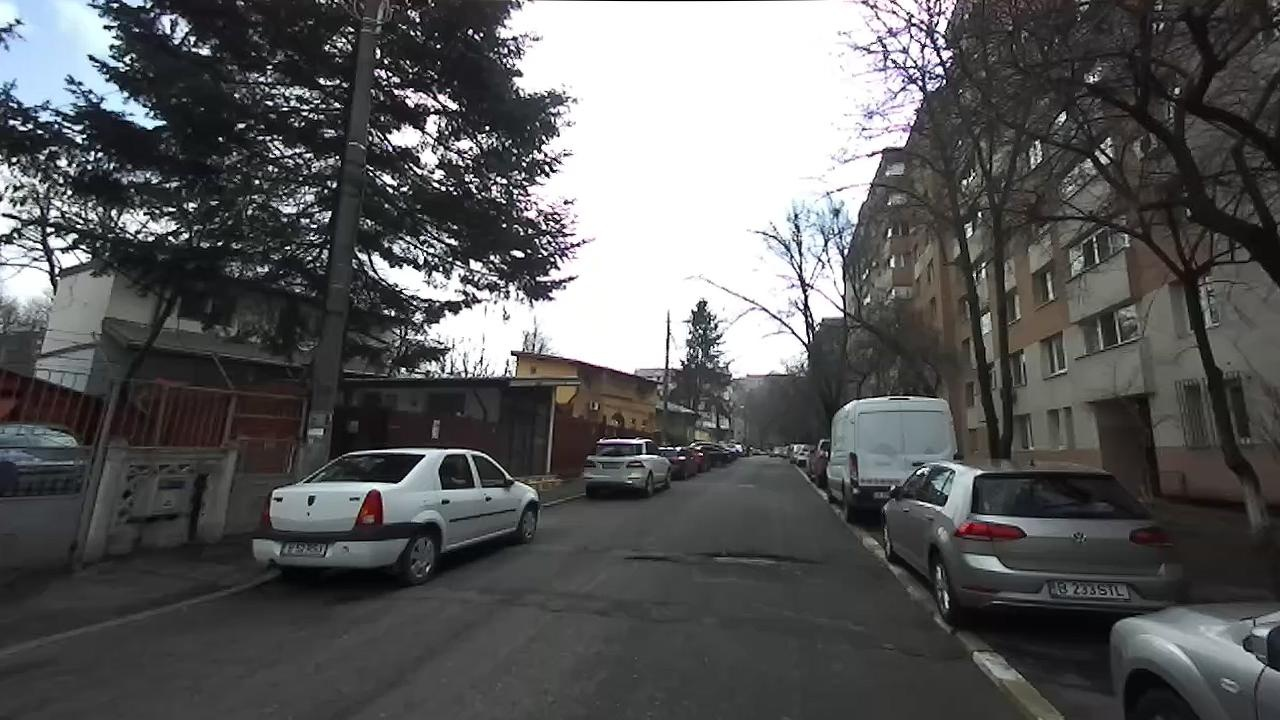pothole: (698, 549, 827, 570), (621, 552, 683, 564)
